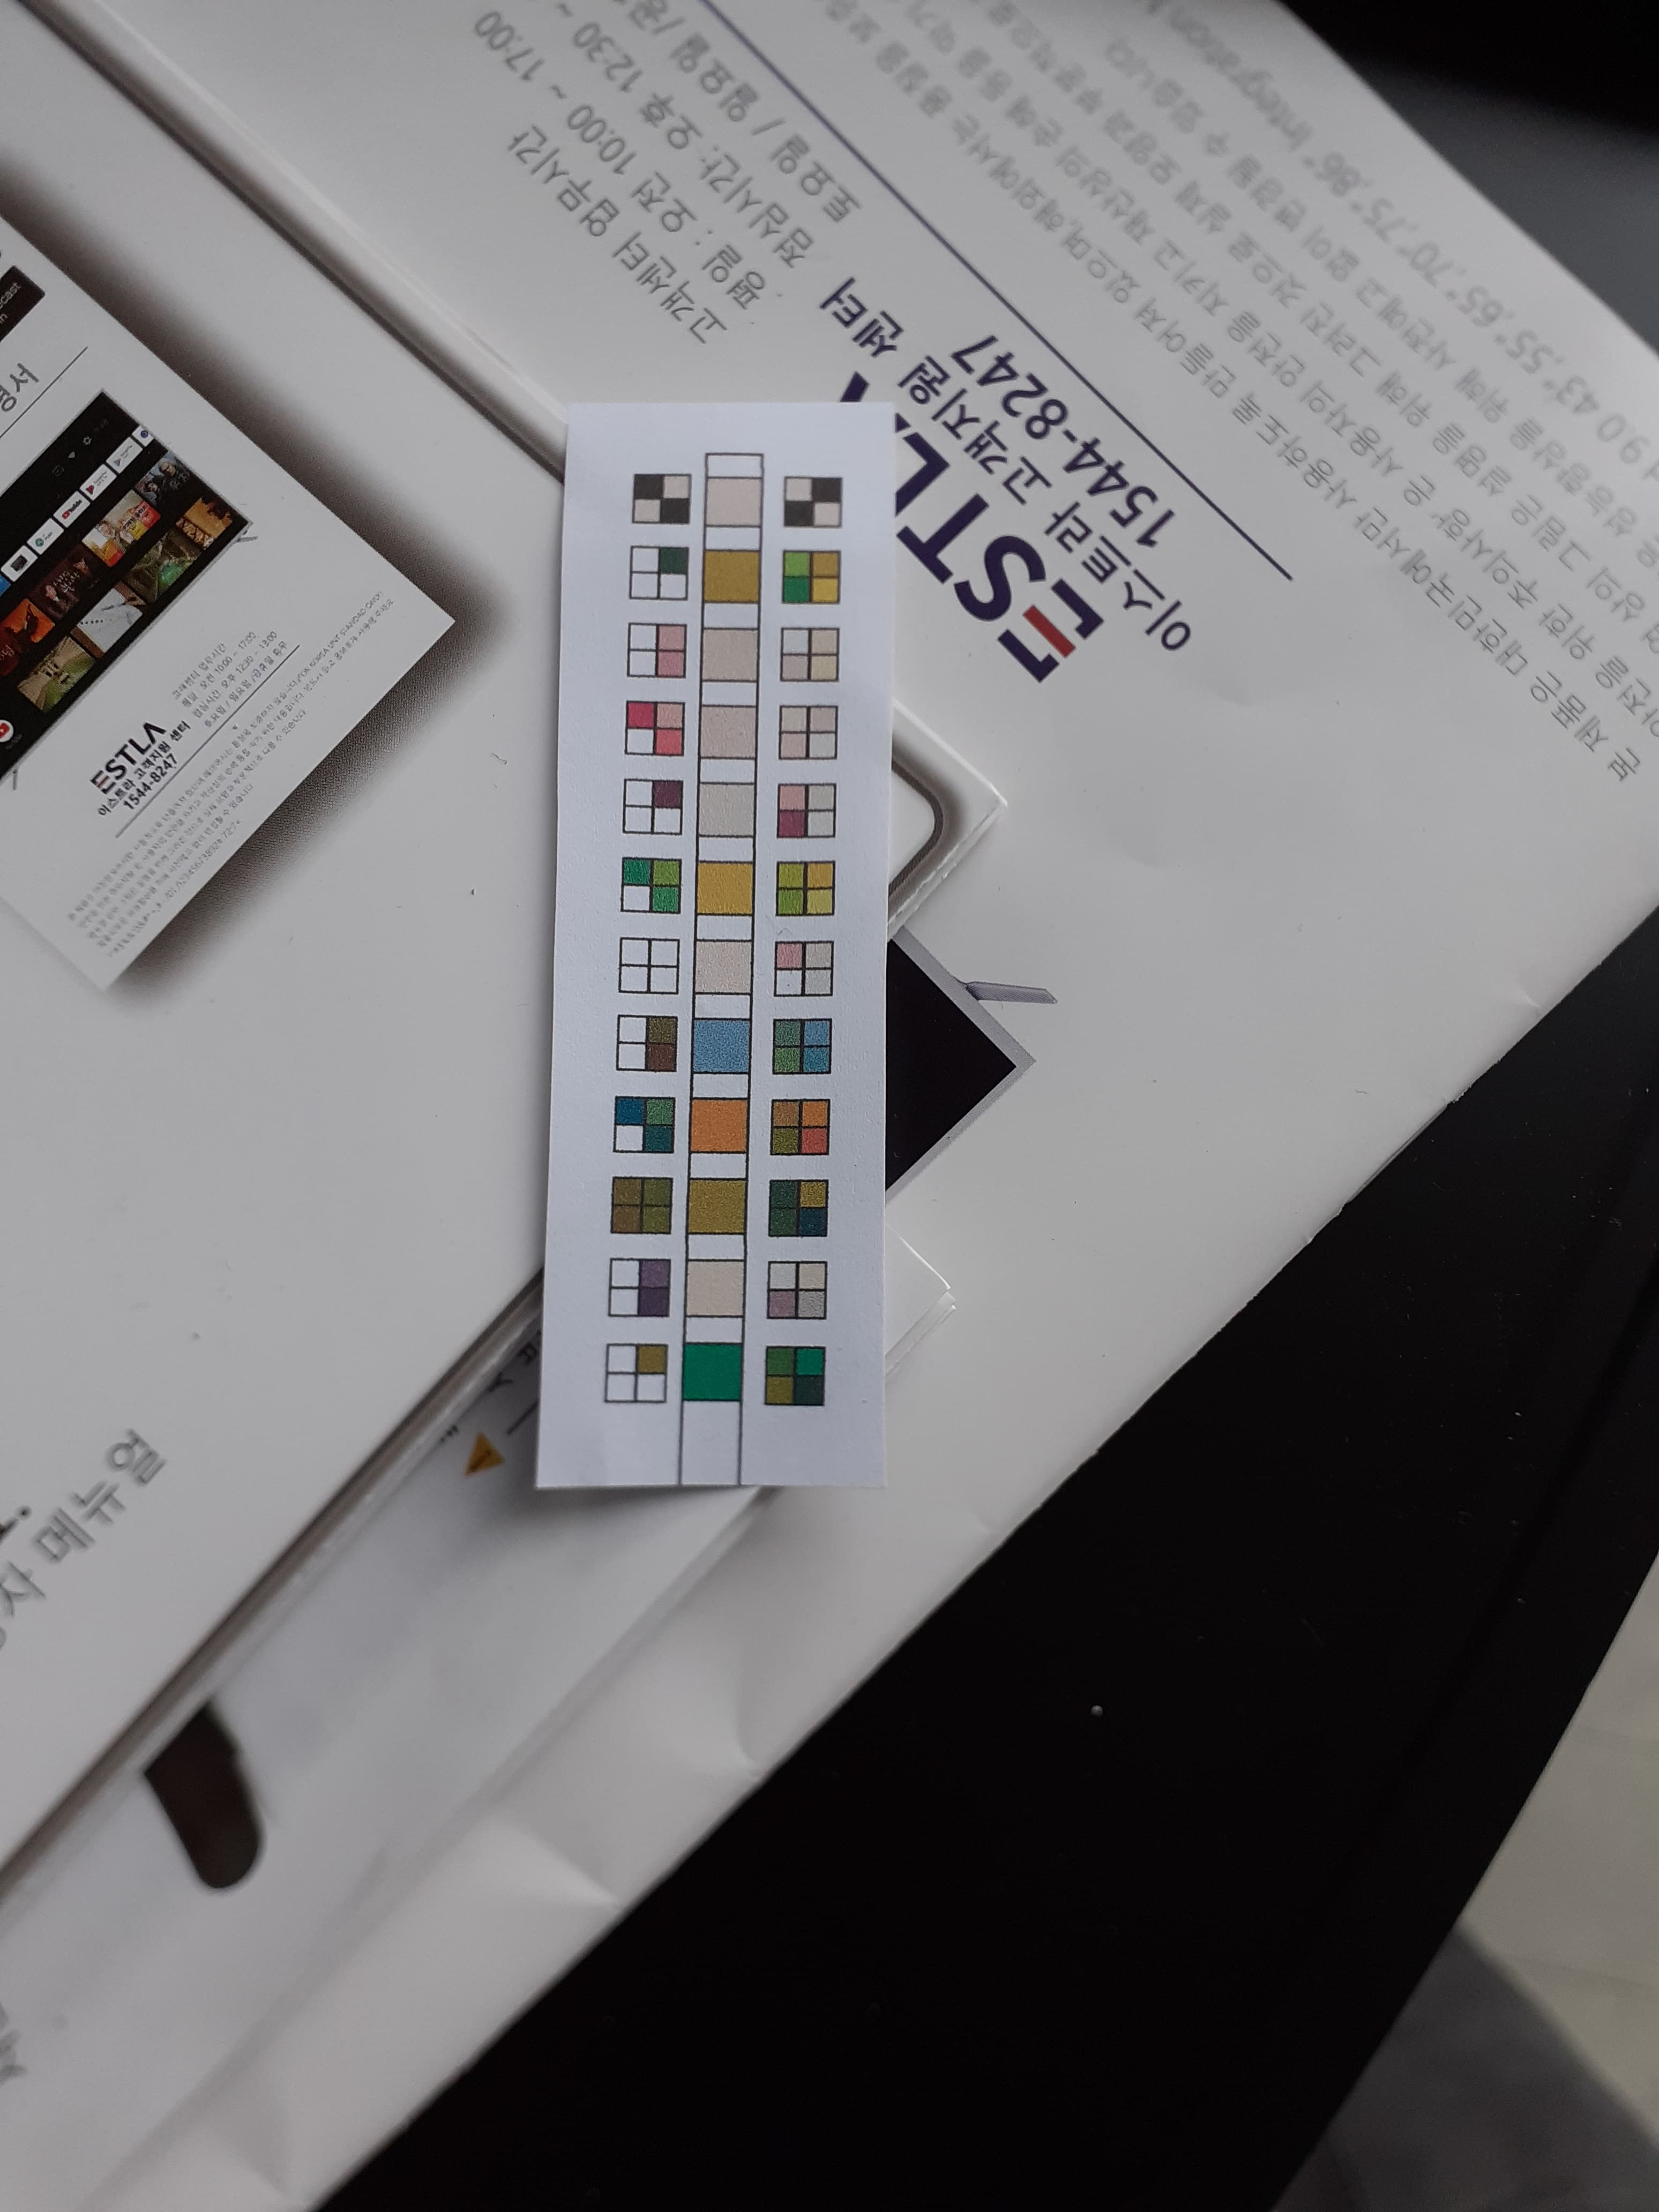tester: (572, 397, 880, 1493)
